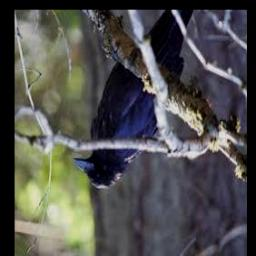Crow: (74, 10, 194, 190)
